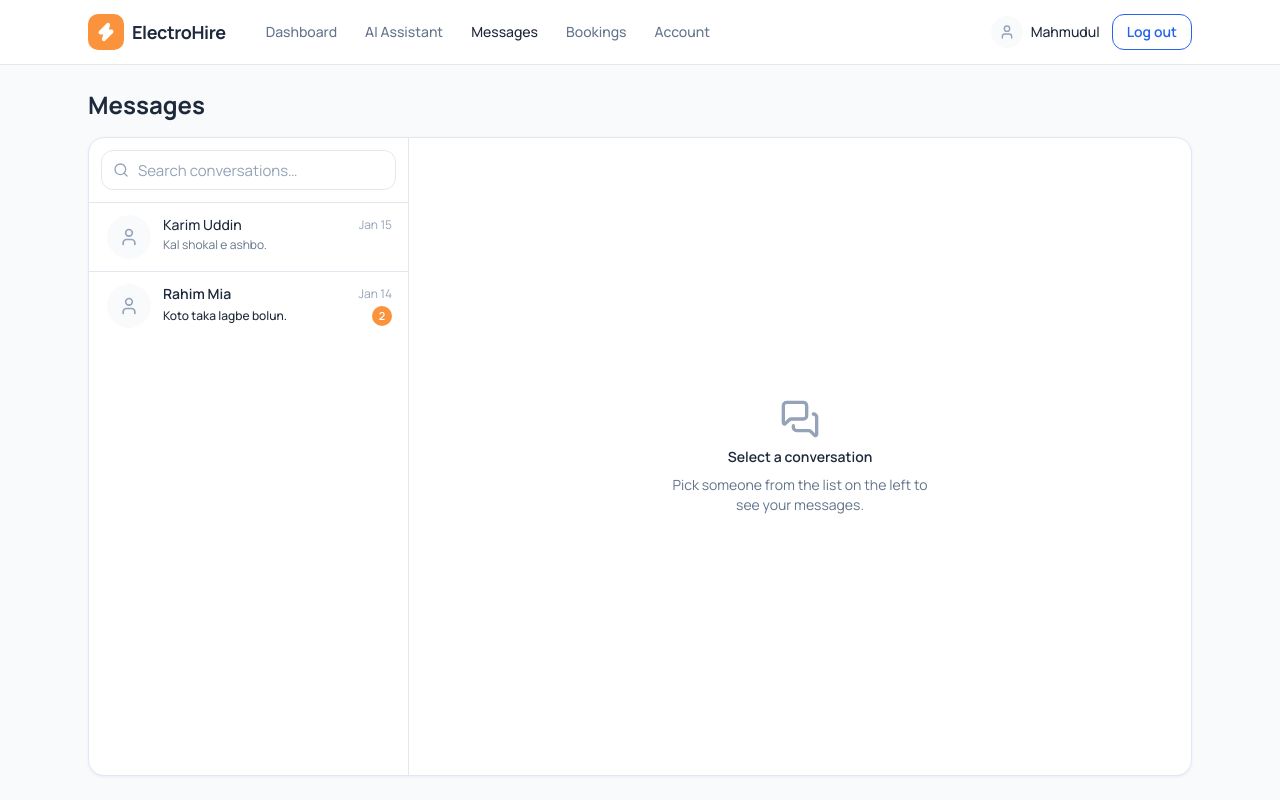
Test: ChatsPage › opens a conversation and loads its message thread by provider_id
Click the button "Karim Uddin Jan 15 Kal shokal e ashbo.": (248, 237) top-left (89, 203), bottom-right (408, 271)
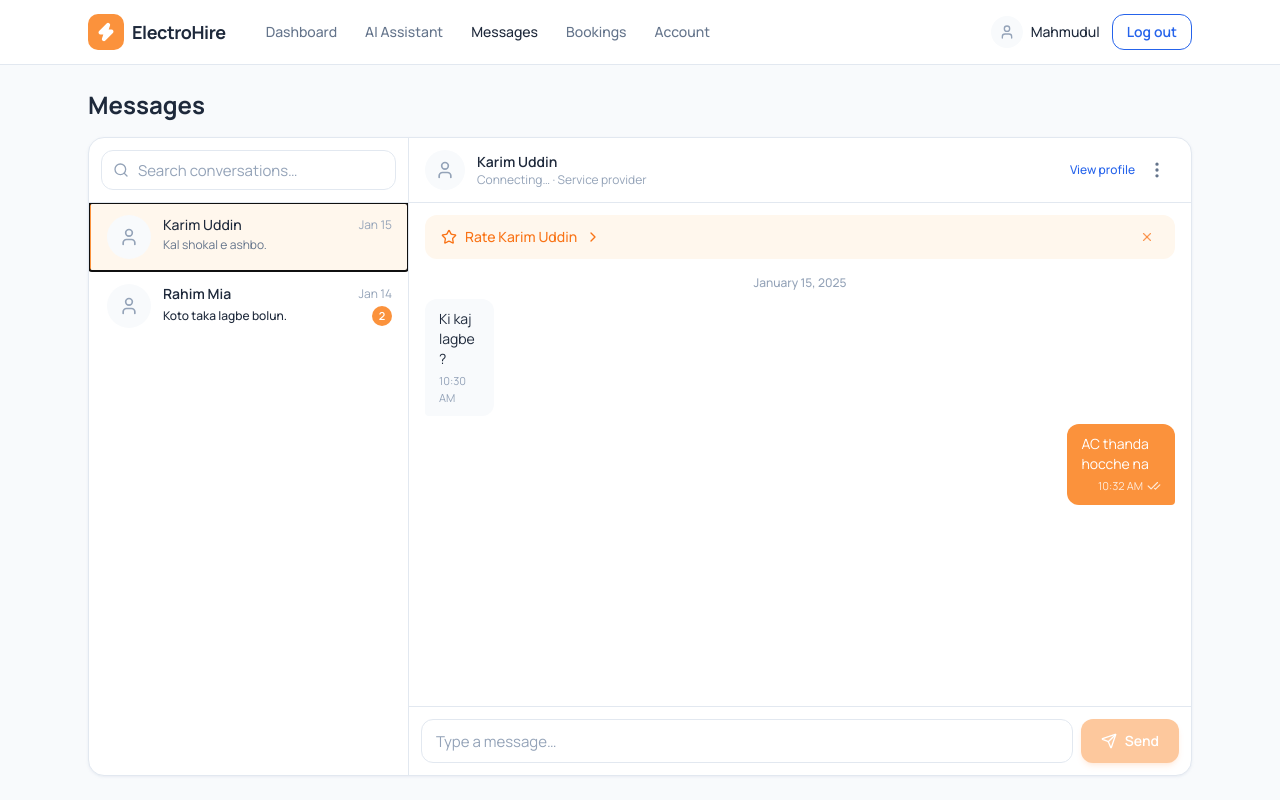
Expected: the text "Ki kaj lagbe?" is shown, top-left (439, 309), bottom-right (480, 369)
Expected: the text "AC thanda hocche na" is shown, top-left (1081, 434), bottom-right (1161, 474)
